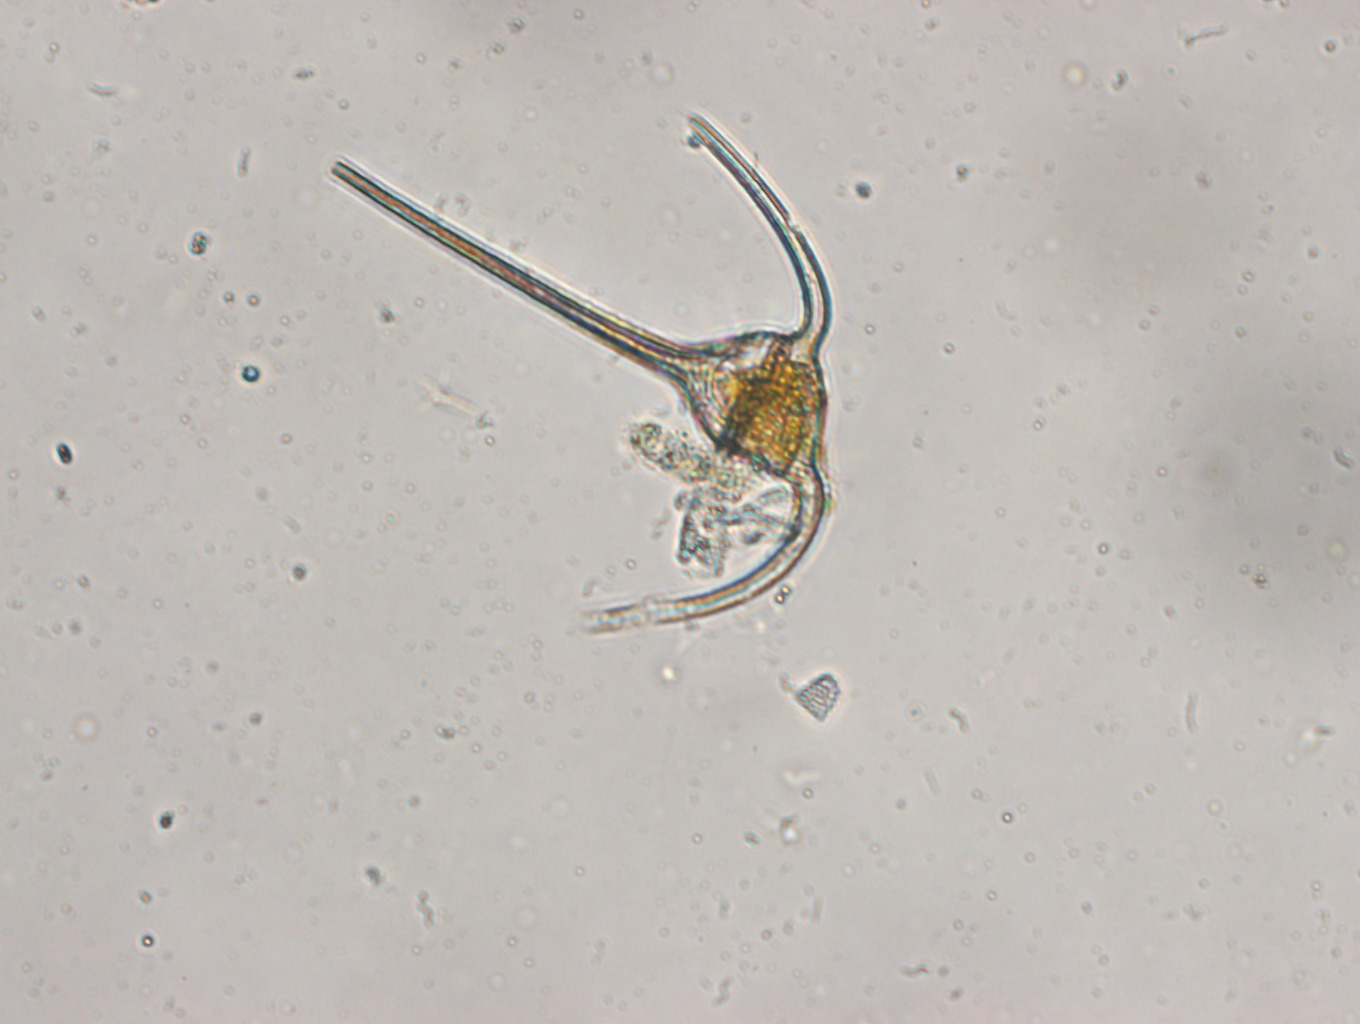ceratium trichoceros: (316, 93, 840, 640)
